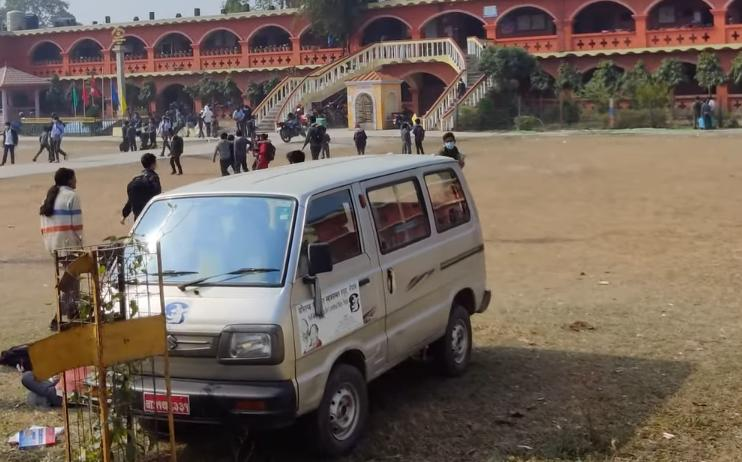van: (87, 139, 518, 449)
